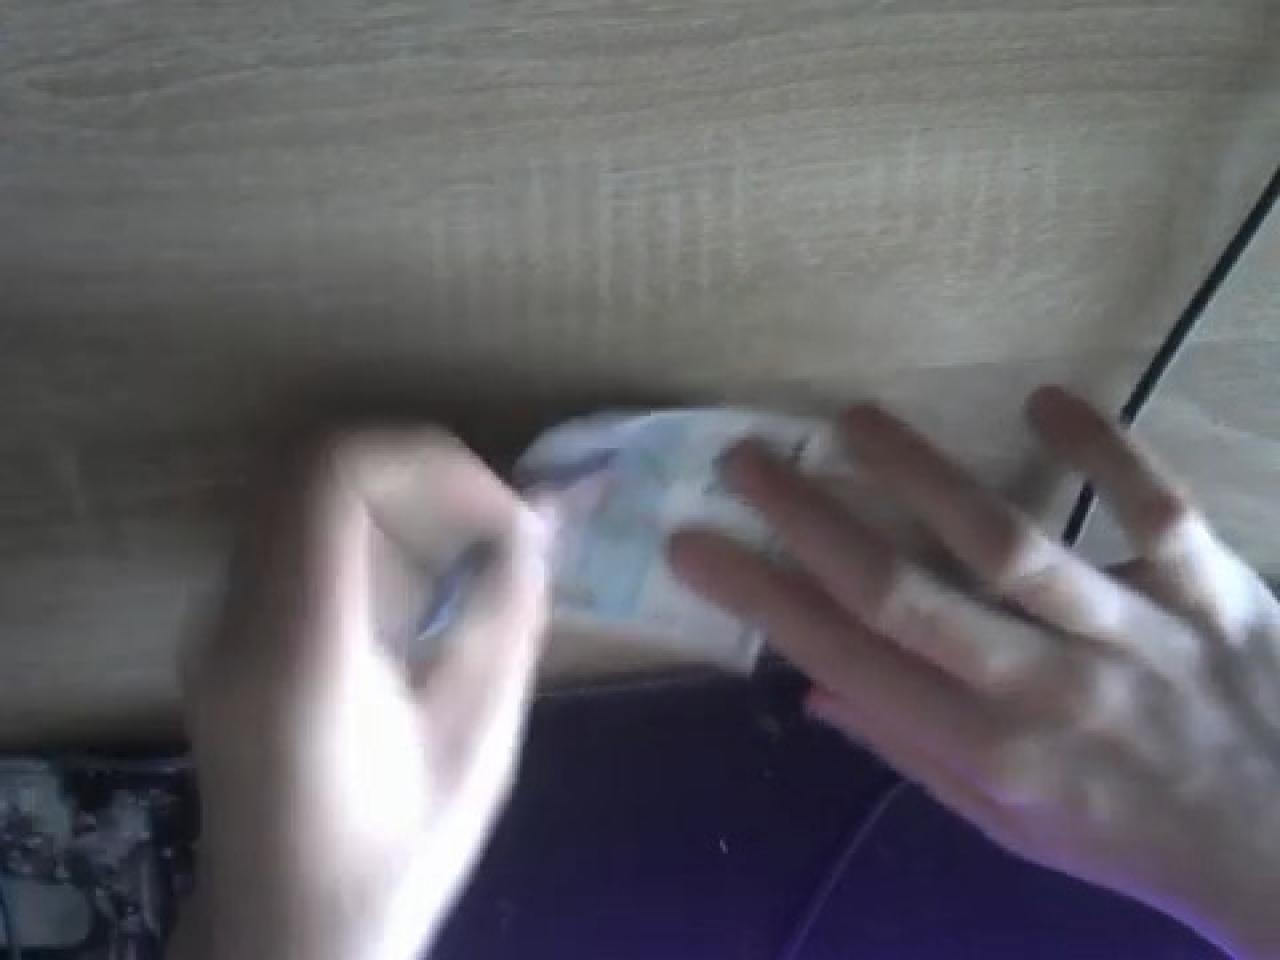20leva: (507, 400, 829, 667)
